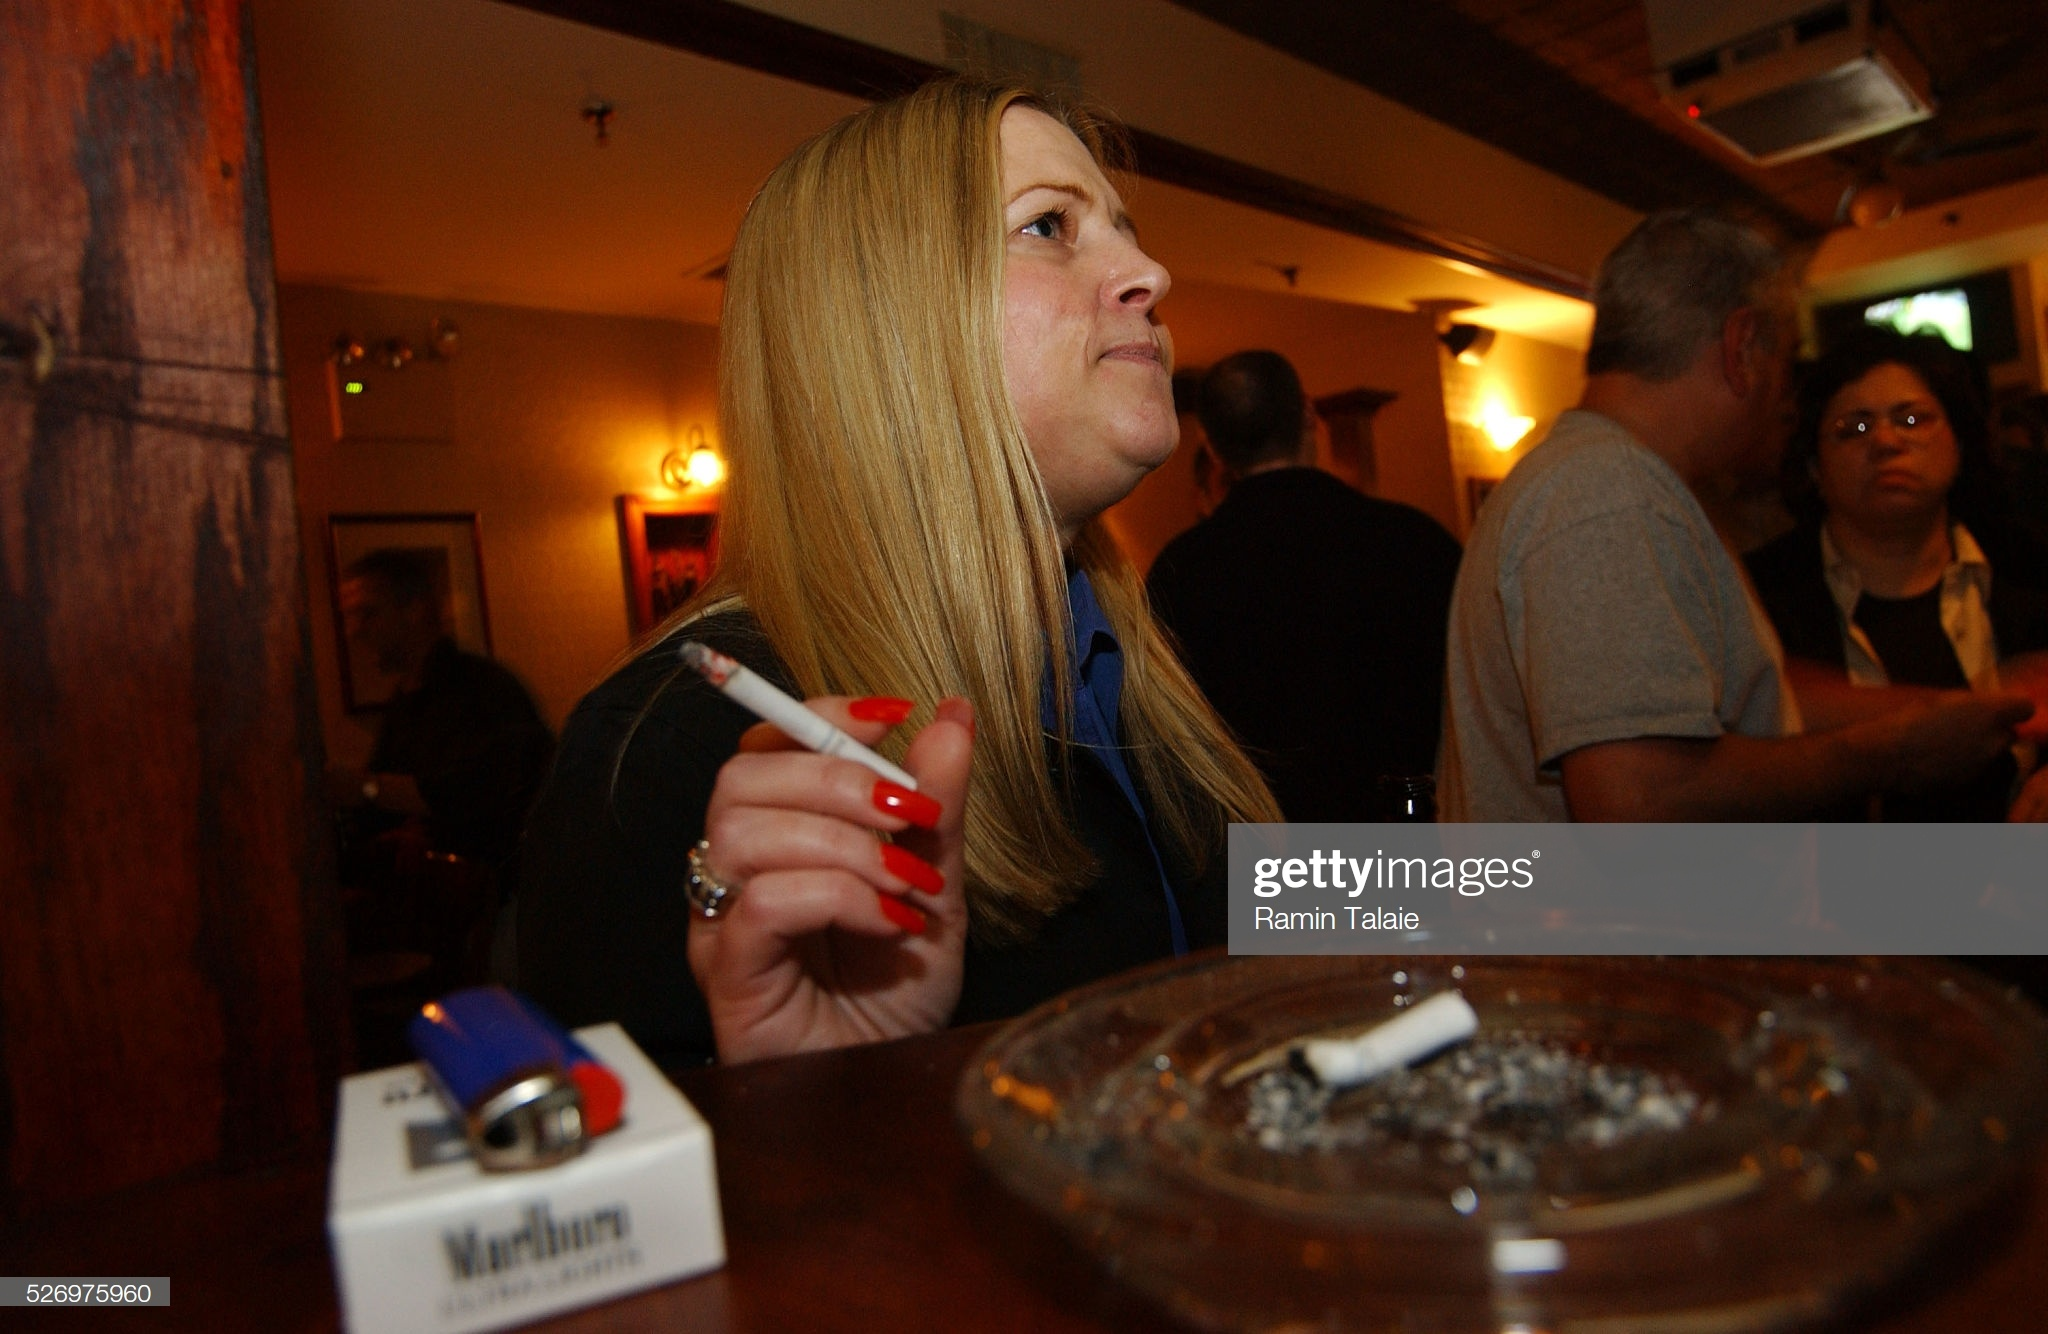sigaretta: (691, 654, 920, 812)
